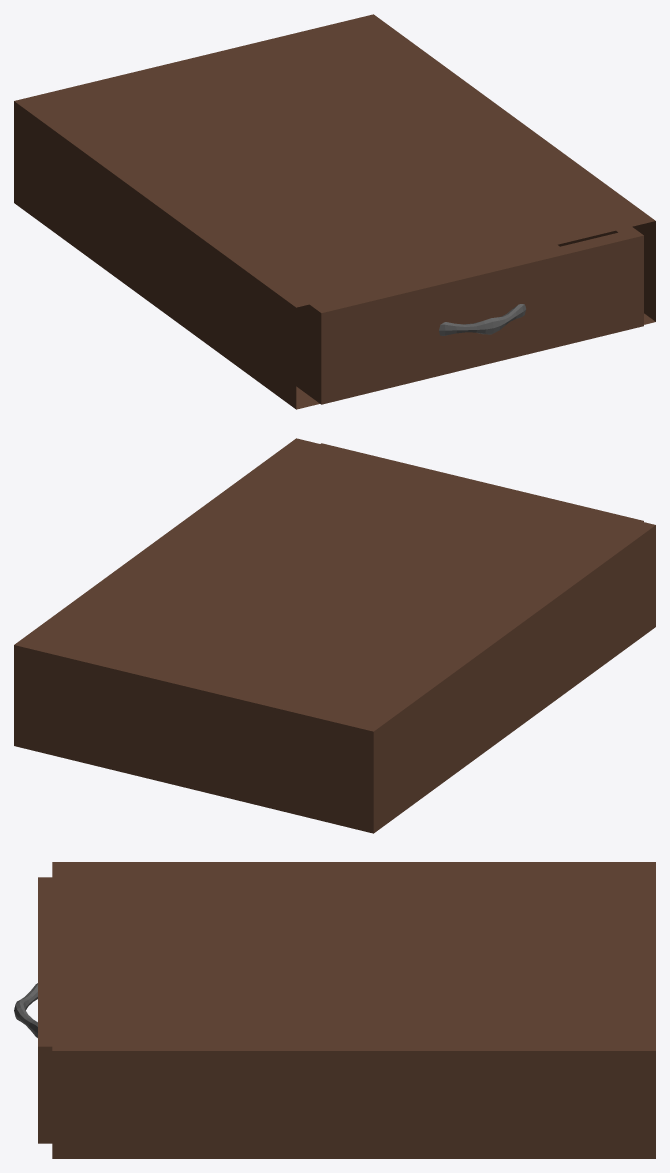
The model's file is LargeDesk_Draw.fbx.
3 renders of one model, top to bottom at view 1: azimuth 30°, elevation 25°; view 2: azimuth 150°, elevation 25°; view 3: azimuth 270°, elevation 25°, orthographic. The views are drawn at different scales.
Parts seen in each view (by area): view 1: LargeDesk.001, LargeDesk.002; view 2: LargeDesk.001, LargeDesk.002; view 3: LargeDesk.001, LargeDesk.002.
Boxes of the visible parts, x1,y1,x2,y2 form: LargeDesk.001: (14, 14, 655, 409); LargeDesk.002: (296, 227, 643, 404); LargeDesk.001: (14, 438, 655, 833); LargeDesk.002: (321, 443, 643, 521); LargeDesk.001: (52, 862, 655, 1158); LargeDesk.002: (14, 877, 52, 1143).
Size of the model in its own units: 24.12 by 6.54 by 34.88.
